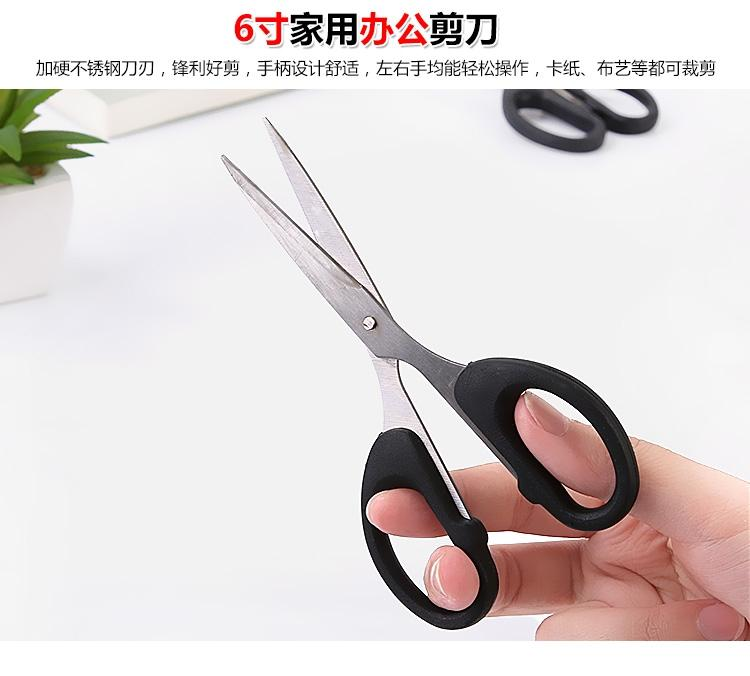scissor: (194, 87, 659, 584)
